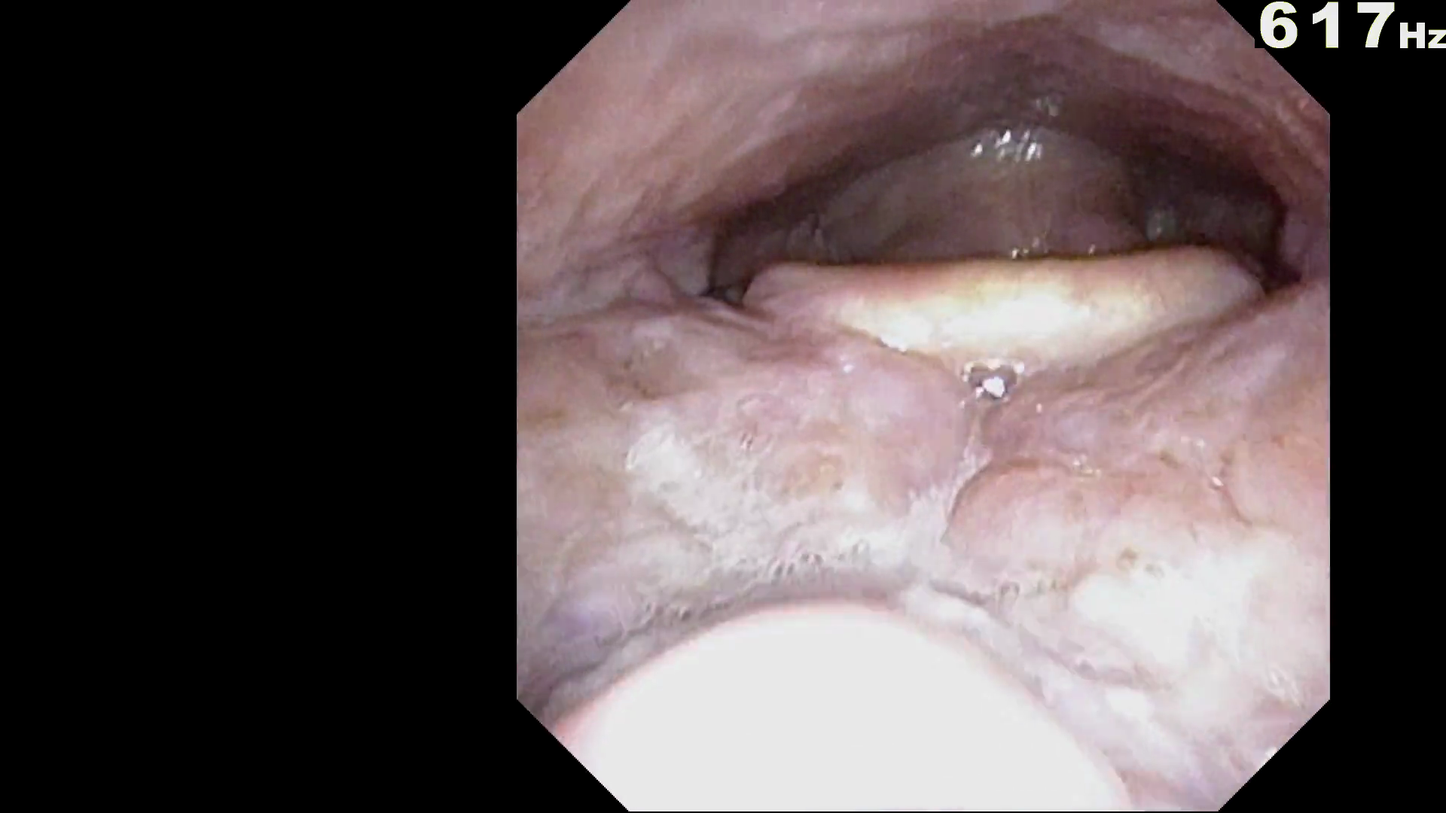epiglottis: (703, 181, 1301, 460)
trachea: (955, 182, 1042, 256)
